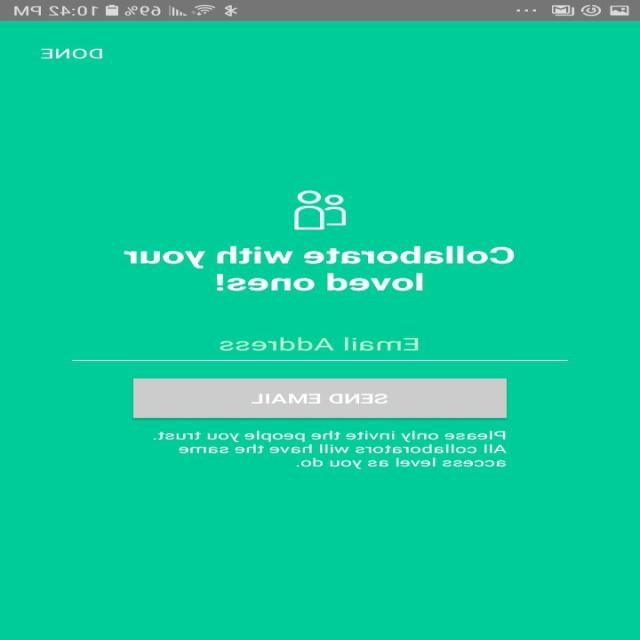EditText: (72, 336, 569, 361)
Icon: (293, 190, 347, 230)
Text: (123, 246, 514, 291), (153, 430, 508, 469), (220, 336, 420, 351), (41, 48, 104, 59)
TextButton: (133, 378, 508, 418)
